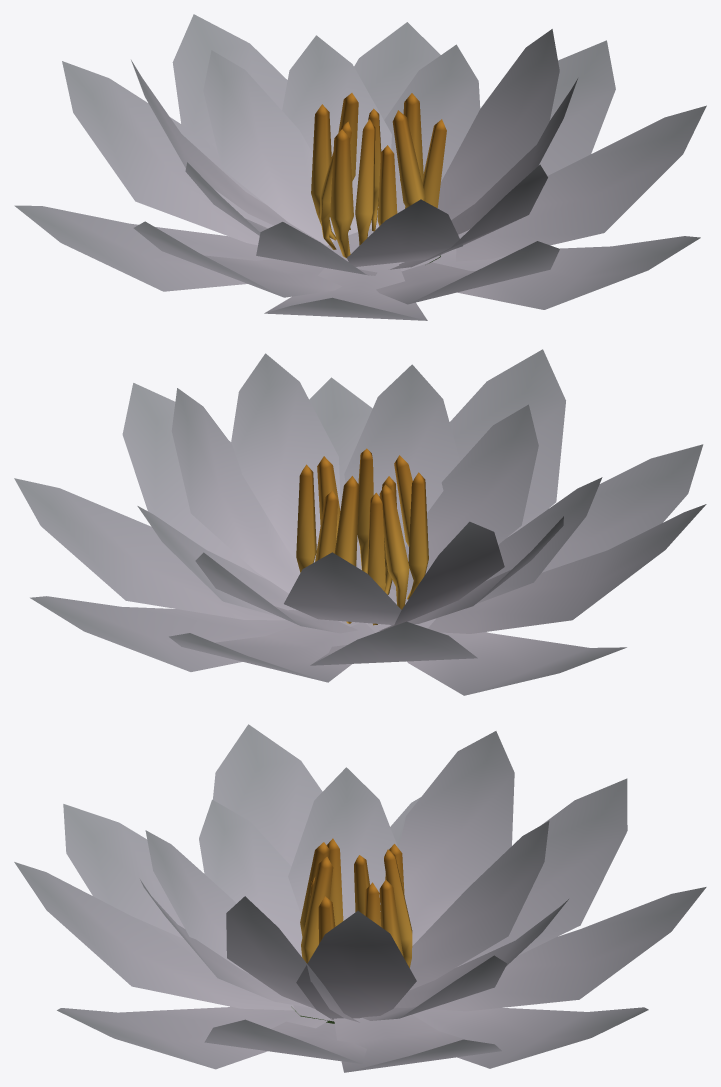
The picture shows the model from 3 angles, top to bottom: view 1: azimuth 30°, elevation 25°; view 2: azimuth 150°, elevation 25°; view 3: azimuth 270°, elevation 25°; orthographic projection. The views are drawn at different scales.
Parts seen in each view (by area): view 1: base.782; view 2: base.782; view 3: base.782.
Part boxes in pixels (bbox=[...]): base.782: bbox=[14, 14, 706, 320]; base.782: bbox=[14, 349, 706, 695]; base.782: bbox=[14, 724, 706, 1072].
Bounding box in the file's own units: 0.4967 × 0.1761 × 0.5.
